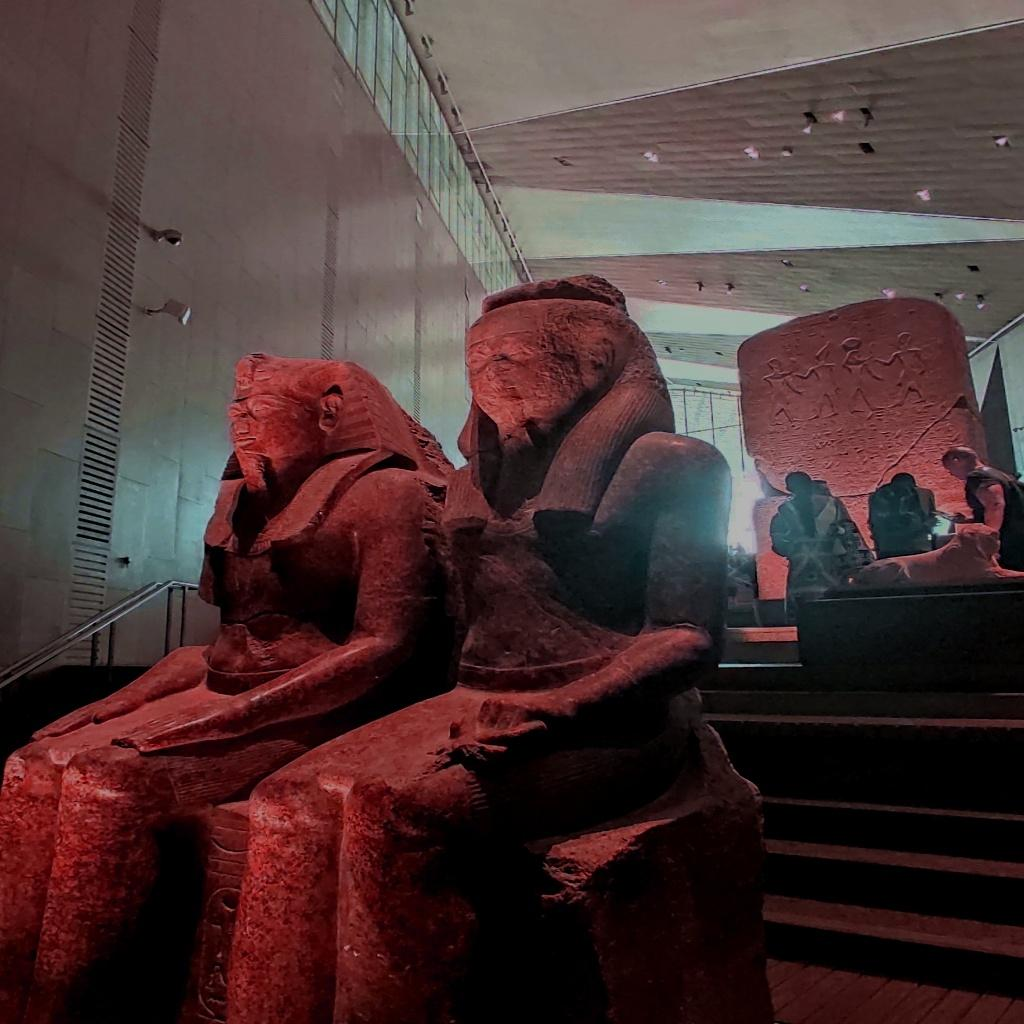Seated Statue of Ramesses II and God Ptah: (0, 272, 778, 1022)
